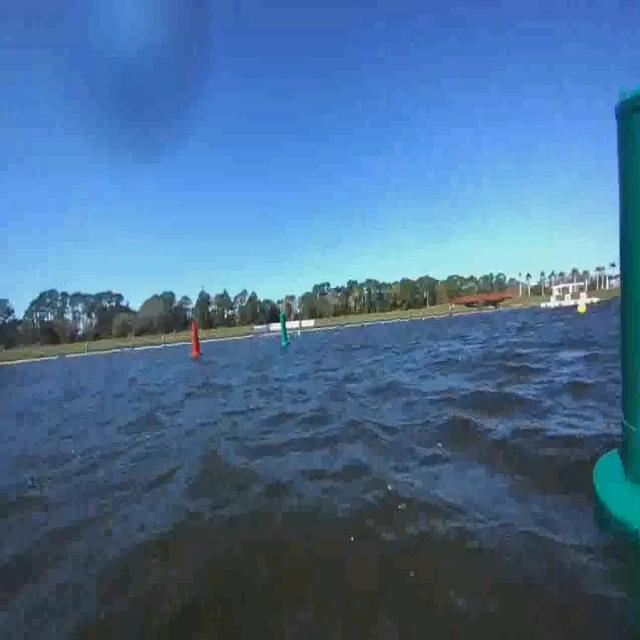green-column-buoy: (582, 87, 640, 562), (276, 299, 293, 348)
red-buoy: (184, 307, 207, 363)
